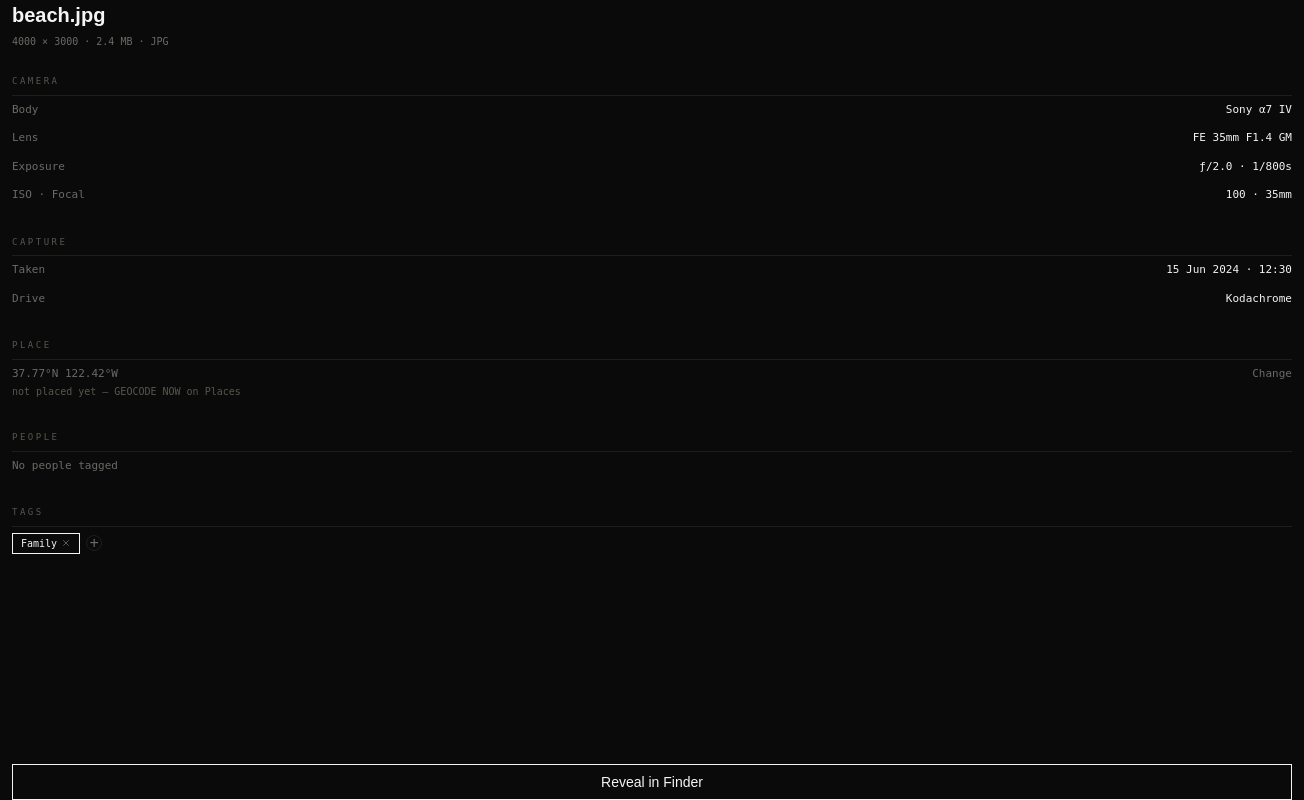
Test: shows an inline error near the TAGS row when removing a chip fails
The image size is (1304, 800).
Click the button named "remove family".
click(66, 543)  # box [61, 538, 71, 548]
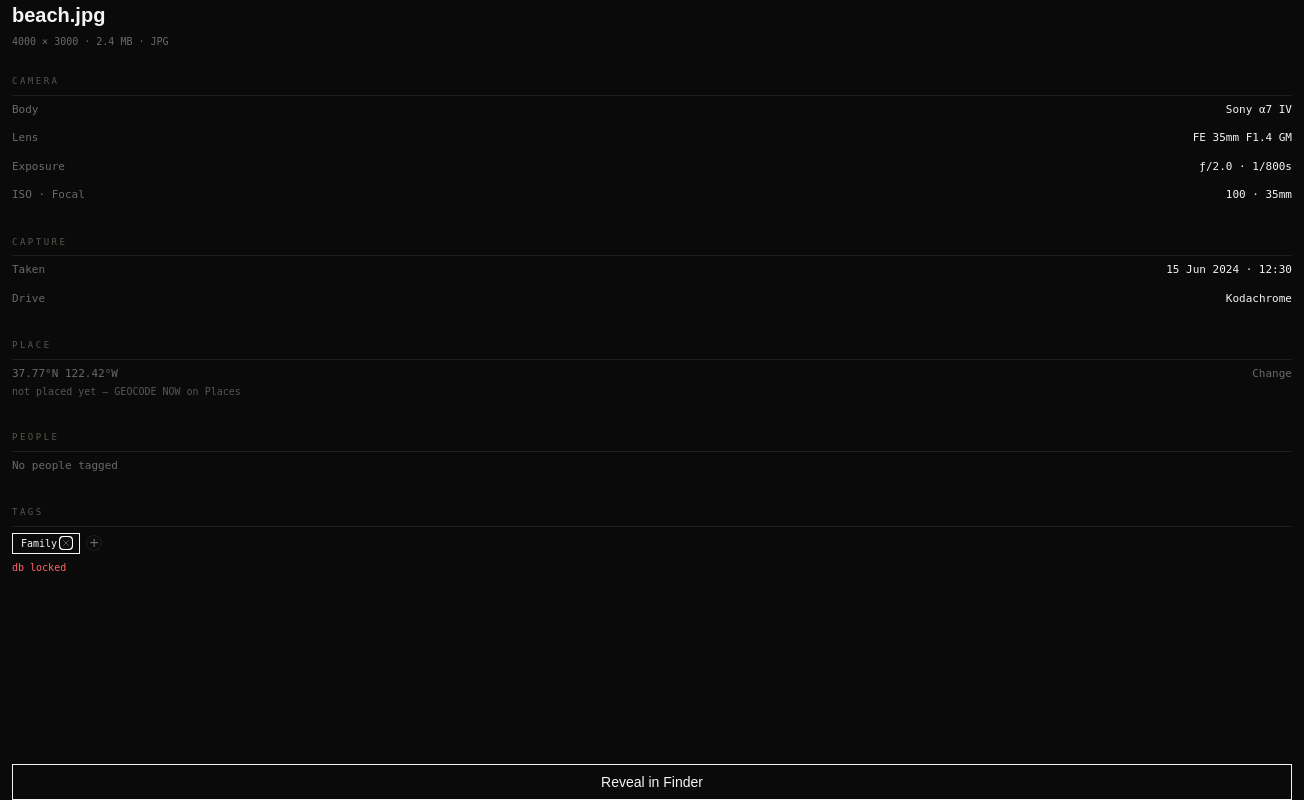
Expected: the text "db locked" is shown, [12, 562, 66, 572]
